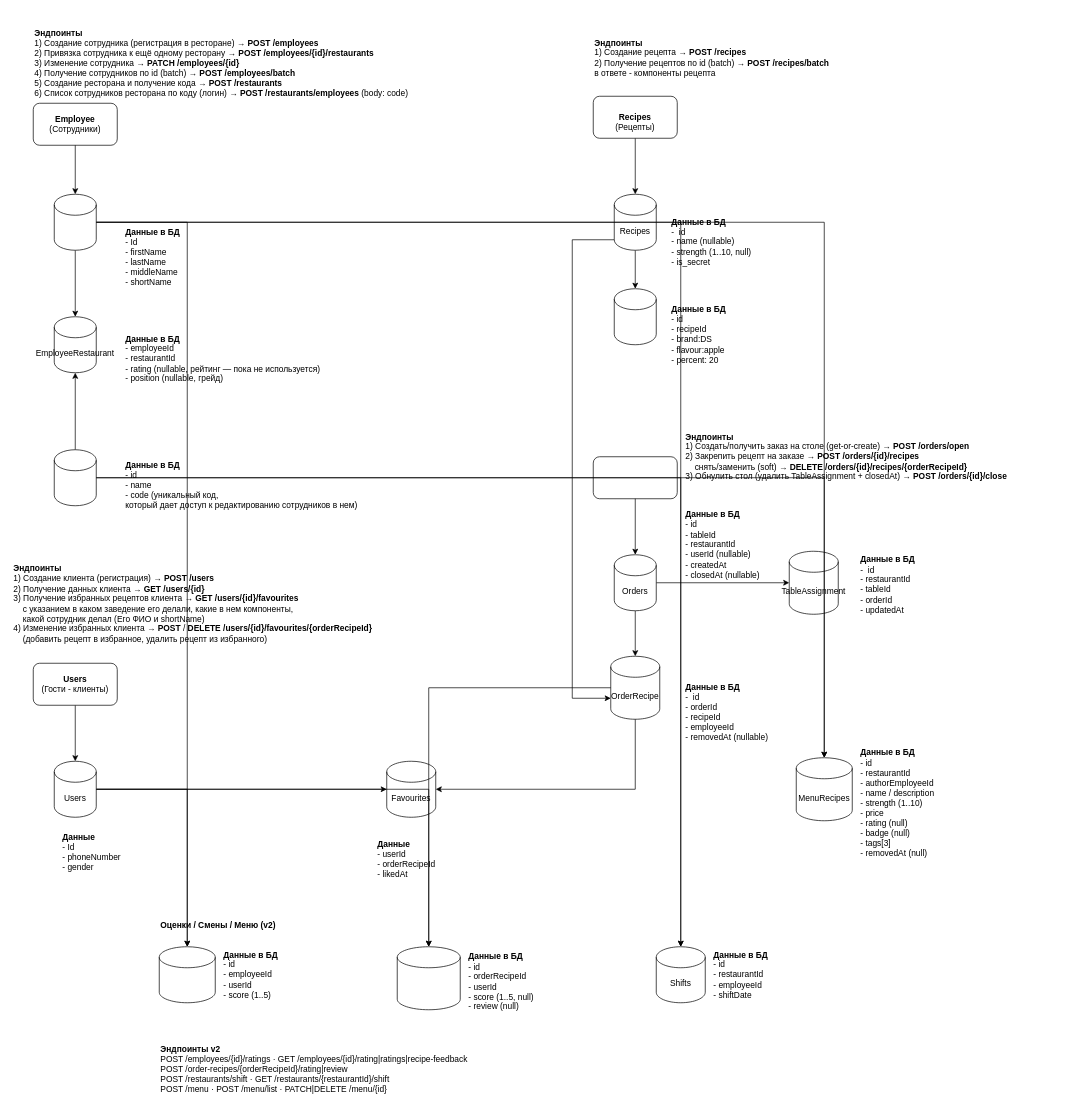
This 1088x1112 diagram has some shape labels left out. The centre of each missing label's shape, as x and y in pixels:
Components: (635,316)
Employee: (75,222)
EmployeeRatings: (187,974)
OrderRecipeFeedback: (428,978)
Orders (заказы): (635,477)
Restaurant: (75,477)
